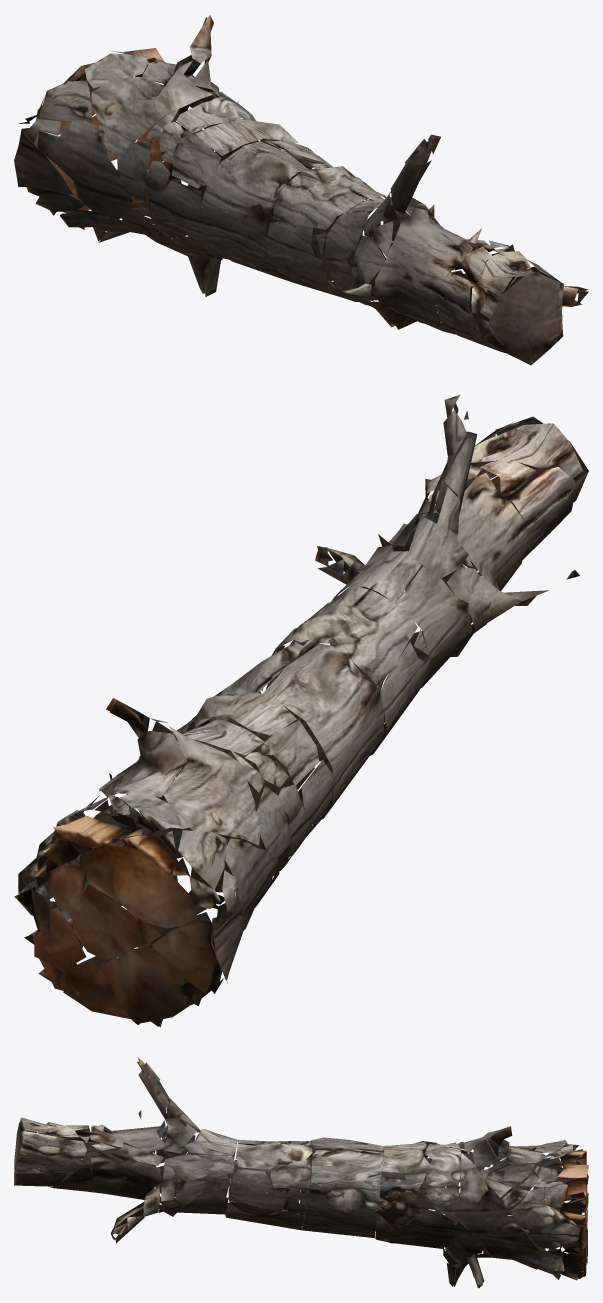
File: tronco_rami.glb
3 renders of one model, top to bottom at view 1: azimuth 30°, elevation 25°; view 2: azimuth 150°, elevation 25°; view 3: azimuth 270°, elevation 25°, orthographic. The views are drawn at different scales.
Parts seen in each view (by area): view 1: tronco_rami; view 2: tronco_rami; view 3: tronco_rami.
Part boxes in pixels (x1=…): tronco_rami: x1=14, y1=15, x2=588, y2=365; tronco_rami: x1=14, y1=394, x2=588, y2=1027; tronco_rami: x1=14, y1=1057, x2=588, y2=1288.
Bounding box in the file's own units: 0.3549 × 0.4392 × 0.9927.
Materials: 1 (1 with a texture image).
